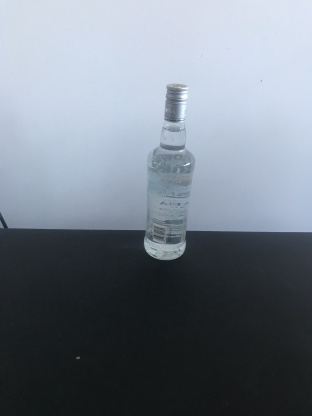nakretka: (163, 81, 190, 124)
